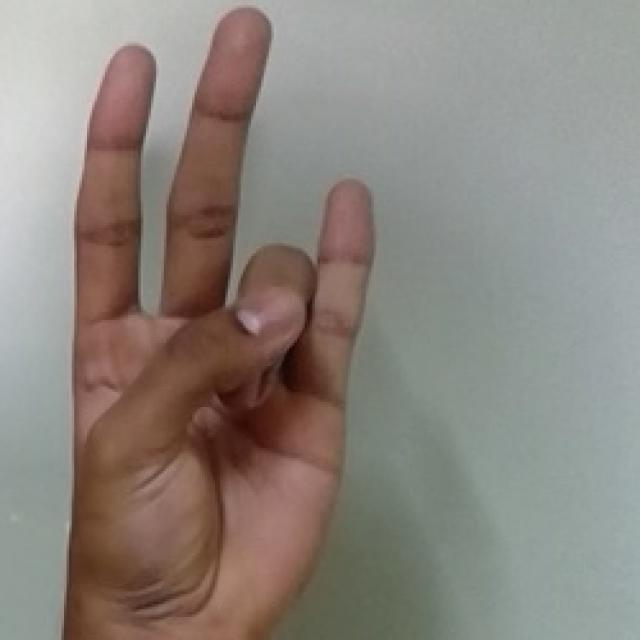Numeric-7: (59, 14, 358, 584)
